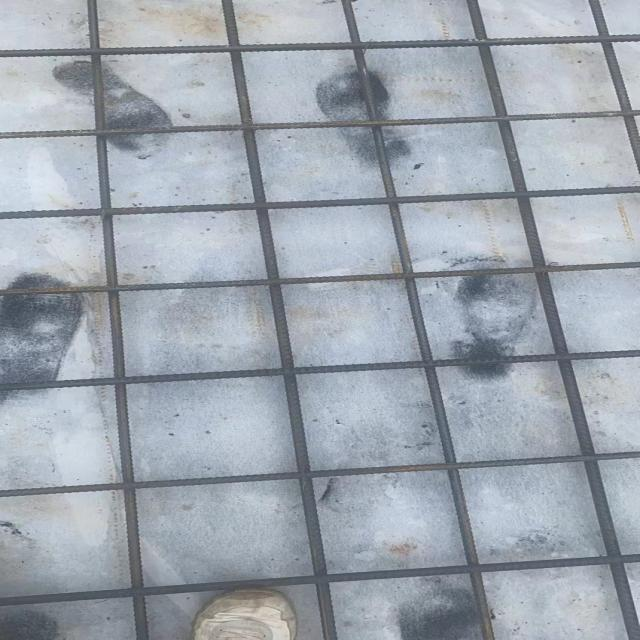ribbed bar: (466, 0, 639, 639), (341, 0, 498, 639), (218, 1, 339, 639), (83, 0, 151, 639), (0, 552, 638, 604), (0, 449, 638, 497), (0, 348, 638, 390), (0, 184, 638, 219), (0, 261, 638, 295), (0, 109, 638, 139), (0, 32, 638, 58), (587, 0, 639, 170)
